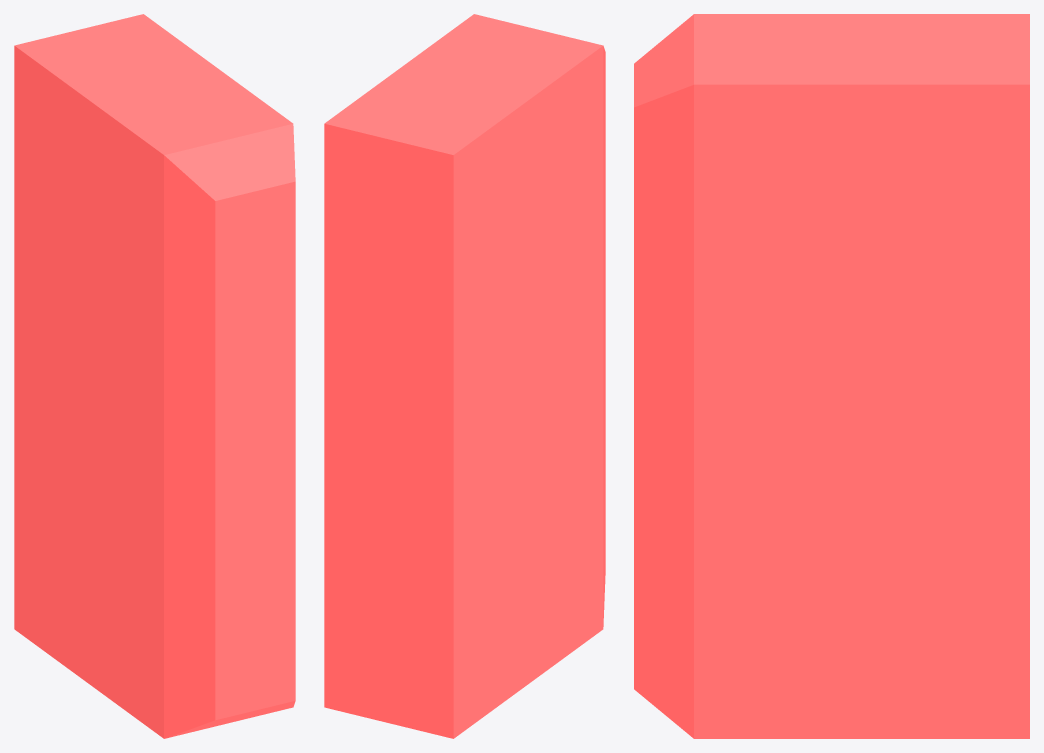
Rendered from RedLight_Extended.fbx.
3 views of the same model, side by side, from view 1: azimuth 30°, elevation 25°; view 2: azimuth 150°, elevation 25°; view 3: azimuth 270°, elevation 25° (orthographic). The views are drawn at different scales.
Visible parts, largest first — view 1: pCube1; view 2: pCube1; view 3: pCube1.
Boxes of the visible parts, bbox=[...] form: pCube1: bbox=[14, 14, 295, 738]; pCube1: bbox=[324, 14, 605, 738]; pCube1: bbox=[634, 14, 1029, 738].
Size of the model in its own units: 0.6676 by 2.88 by 1.58.
